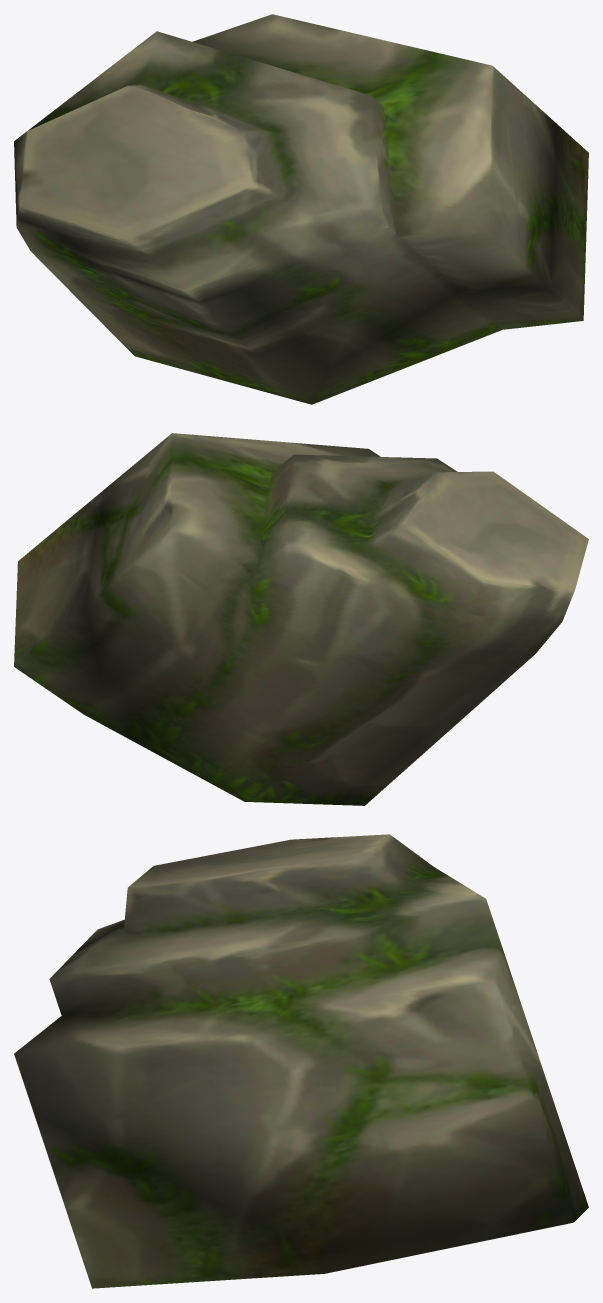
File: RockFormation_4_5 (30).fbx
3 renders of one model, top to bottom at view 1: azimuth 30°, elevation 25°; view 2: azimuth 150°, elevation 25°; view 3: azimuth 270°, elevation 25°, orthographic. The views are drawn at different scales.
Visible parts, largest first — view 1: RockFormation_4_5 (30); view 2: RockFormation_4_5 (30); view 3: RockFormation_4_5 (30).
Boxes of the visible parts, x1,y1,x2,y2 form: RockFormation_4_5 (30): [14, 14, 588, 404]; RockFormation_4_5 (30): [14, 433, 588, 805]; RockFormation_4_5 (30): [14, 834, 588, 1288].
Bounding box in the file's own units: 1022 × 488 × 773.
